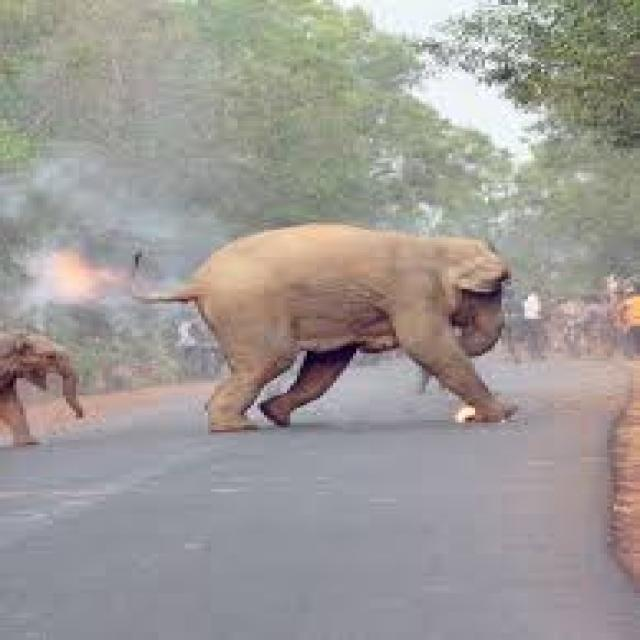Elephant: (133, 216, 526, 432), (0, 316, 82, 444)
